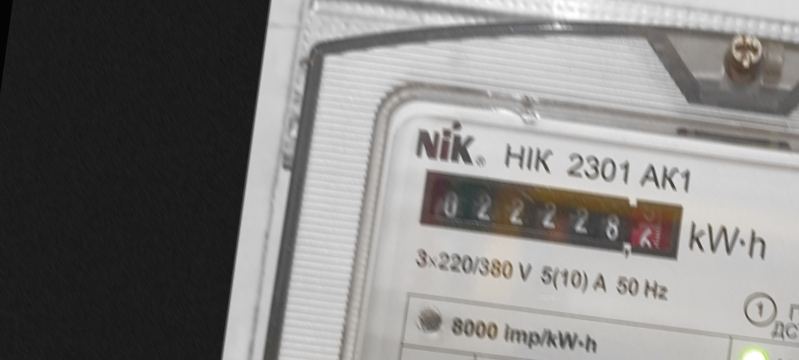0: (439, 188, 459, 219)
2: (472, 191, 495, 222), (571, 205, 592, 236), (538, 199, 559, 229), (506, 195, 526, 226)
5: (639, 202, 657, 224)
6: (636, 225, 655, 248)
8: (602, 212, 621, 241)
screen: (409, 158, 694, 270)
